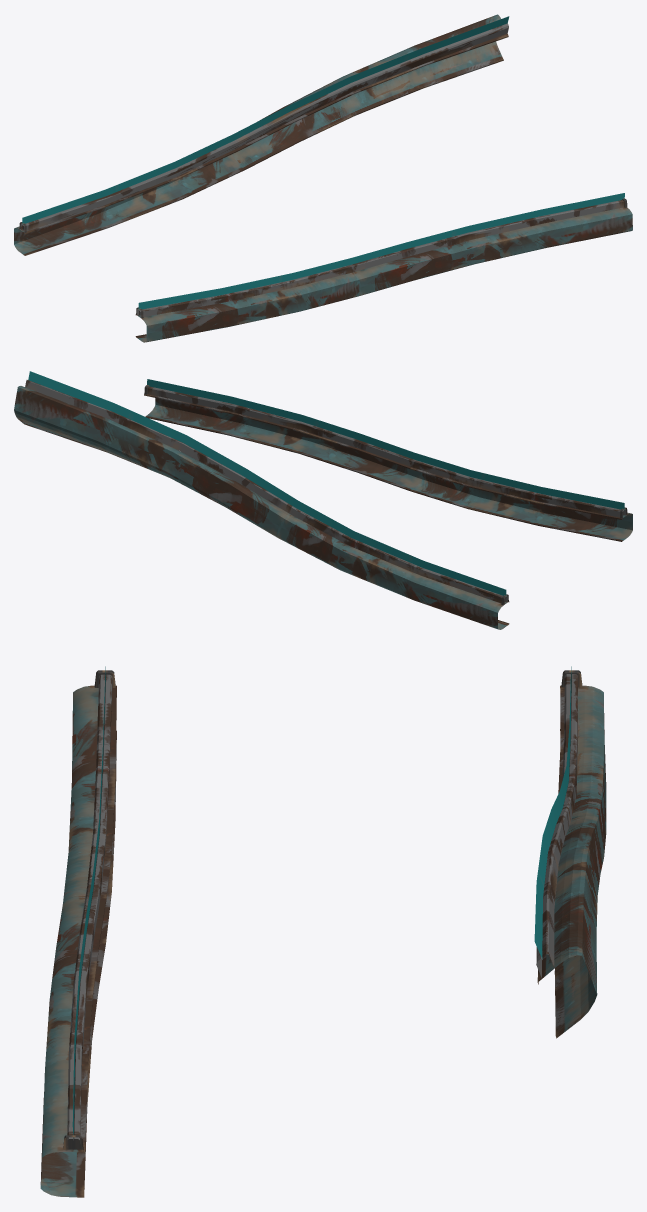
Rendered from Mur_Transition_Droit.fbx.
The picture shows the model from 3 angles, top to bottom: view 1: azimuth 30°, elevation 25°; view 2: azimuth 150°, elevation 25°; view 3: azimuth 270°, elevation 25°; orthographic projection. The views are drawn at different scales.
Parts seen in each view (by area): view 1: polySurface271; view 2: polySurface271; view 3: polySurface271.
Part boxes in pixels (bbox=[...]): polySurface271: bbox=[14, 14, 632, 342]; polySurface271: bbox=[14, 371, 632, 629]; polySurface271: bbox=[40, 666, 606, 1197].
Size of the model in its own units: 31.22 by 8.34 by 15.98.
